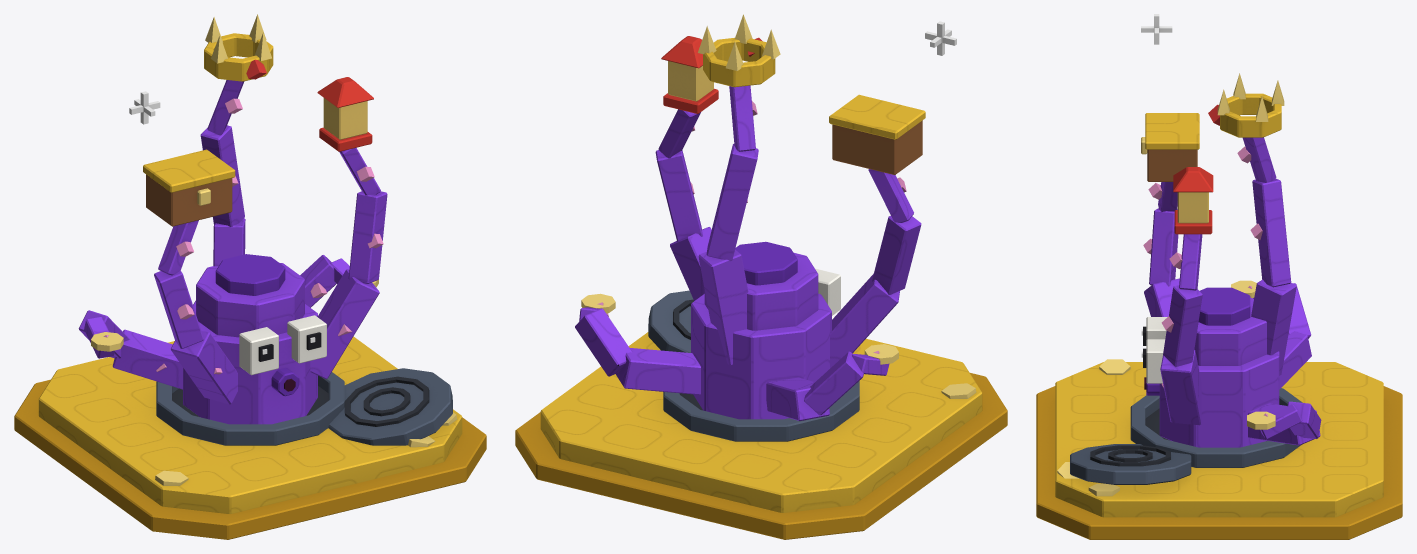
Rendered from SubwayOctopus.fbx.
3 views of the same model, side by side, from view 1: azimuth 30°, elevation 25°; view 2: azimuth 150°, elevation 25°; view 3: azimuth 270°, elevation 25° (orthographic). The views are drawn at different scales.
Visible parts, largest first — view 1: Art_SubwayOctopus_Stand, Art_SubwayOctopus_Head, Art_SubwayOctopus_Tentacle1, Art_SubwayOctopus_Tentacle2, Art_SubwayOctopus_Tentacle3, Art_SubwayOctopus_Tentacle4, Art_SubwayOctopus_Tentacle5; view 2: Art_SubwayOctopus_Stand, Art_SubwayOctopus_Head, Art_SubwayOctopus_Tentacle1, Art_SubwayOctopus_Tentacle3, Art_SubwayOctopus_Tentacle2, Art_SubwayOctopus_Tentacle5, Art_SubwayOctopus_Tentacle4; view 3: Art_SubwayOctopus_Stand, Art_SubwayOctopus_Head, Art_SubwayOctopus_Tentacle3, Art_SubwayOctopus_Tentacle2, Art_SubwayOctopus_Tentacle1, Art_SubwayOctopus_Tentacle5, Art_SubwayOctopus_Tentacle4.
Boxes of the visible parts, x1,y1,x2,y2 form: Art_SubwayOctopus_Stand: [14, 91, 486, 539]; Art_SubwayOctopus_Head: [183, 254, 326, 424]; Art_SubwayOctopus_Tentacle1: [143, 149, 237, 404]; Art_SubwayOctopus_Tentacle2: [310, 77, 387, 378]; Art_SubwayOctopus_Tentacle3: [200, 14, 273, 266]; Art_SubwayOctopus_Tentacle4: [78, 310, 182, 389]; Art_SubwayOctopus_Tentacle5: [300, 255, 378, 307]; Art_SubwayOctopus_Stand: [515, 21, 1007, 539]; Art_SubwayOctopus_Head: [691, 241, 840, 419]; Art_SubwayOctopus_Tentacle1: [829, 94, 925, 368]; Art_SubwayOctopus_Tentacle3: [698, 14, 780, 365]; Art_SubwayOctopus_Tentacle2: [655, 36, 718, 300]; Art_SubwayOctopus_Tentacle5: [575, 293, 700, 394]; Art_SubwayOctopus_Tentacle4: [766, 344, 898, 420]; Art_SubwayOctopus_Stand: [1036, 14, 1402, 539]; Art_SubwayOctopus_Head: [1141, 287, 1279, 447]; Art_SubwayOctopus_Tentacle3: [1208, 73, 1296, 375]; Art_SubwayOctopus_Tentacle2: [1160, 167, 1213, 425]; Art_SubwayOctopus_Tentacle1: [1141, 113, 1199, 316]; Art_SubwayOctopus_Tentacle5: [1247, 401, 1321, 445]; Art_SubwayOctopus_Tentacle4: [1231, 280, 1311, 389].
Size of the model in its own units: 3.5 by 4.05 by 3.5.
